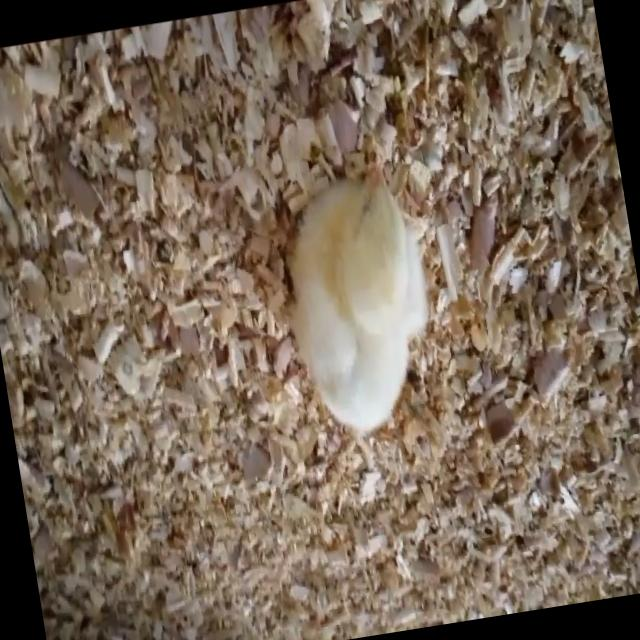sleeping chickens: (257, 140, 459, 459)
